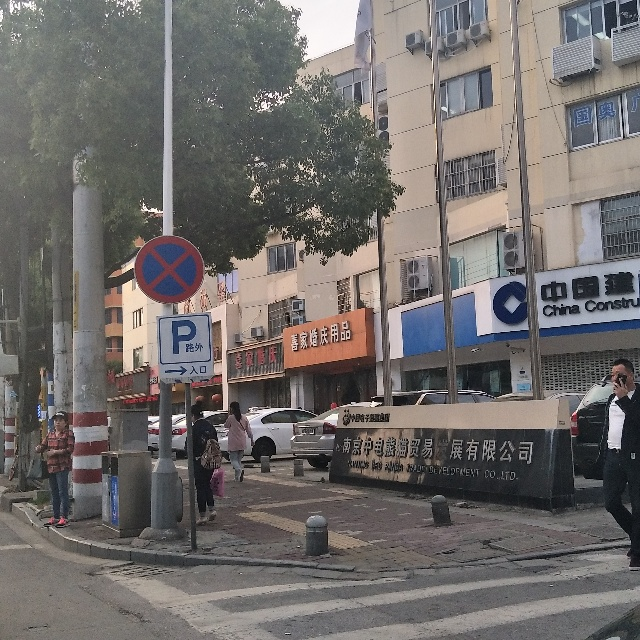stop: (137, 233, 204, 306)
